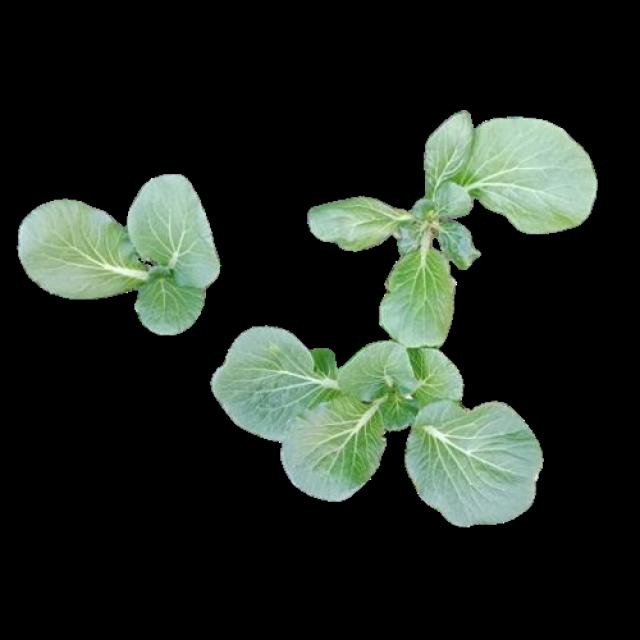healthy: (305, 105, 595, 344), (212, 327, 542, 522), (14, 171, 218, 333)
not-mature: (307, 107, 598, 347), (214, 329, 544, 525), (17, 174, 220, 335)
